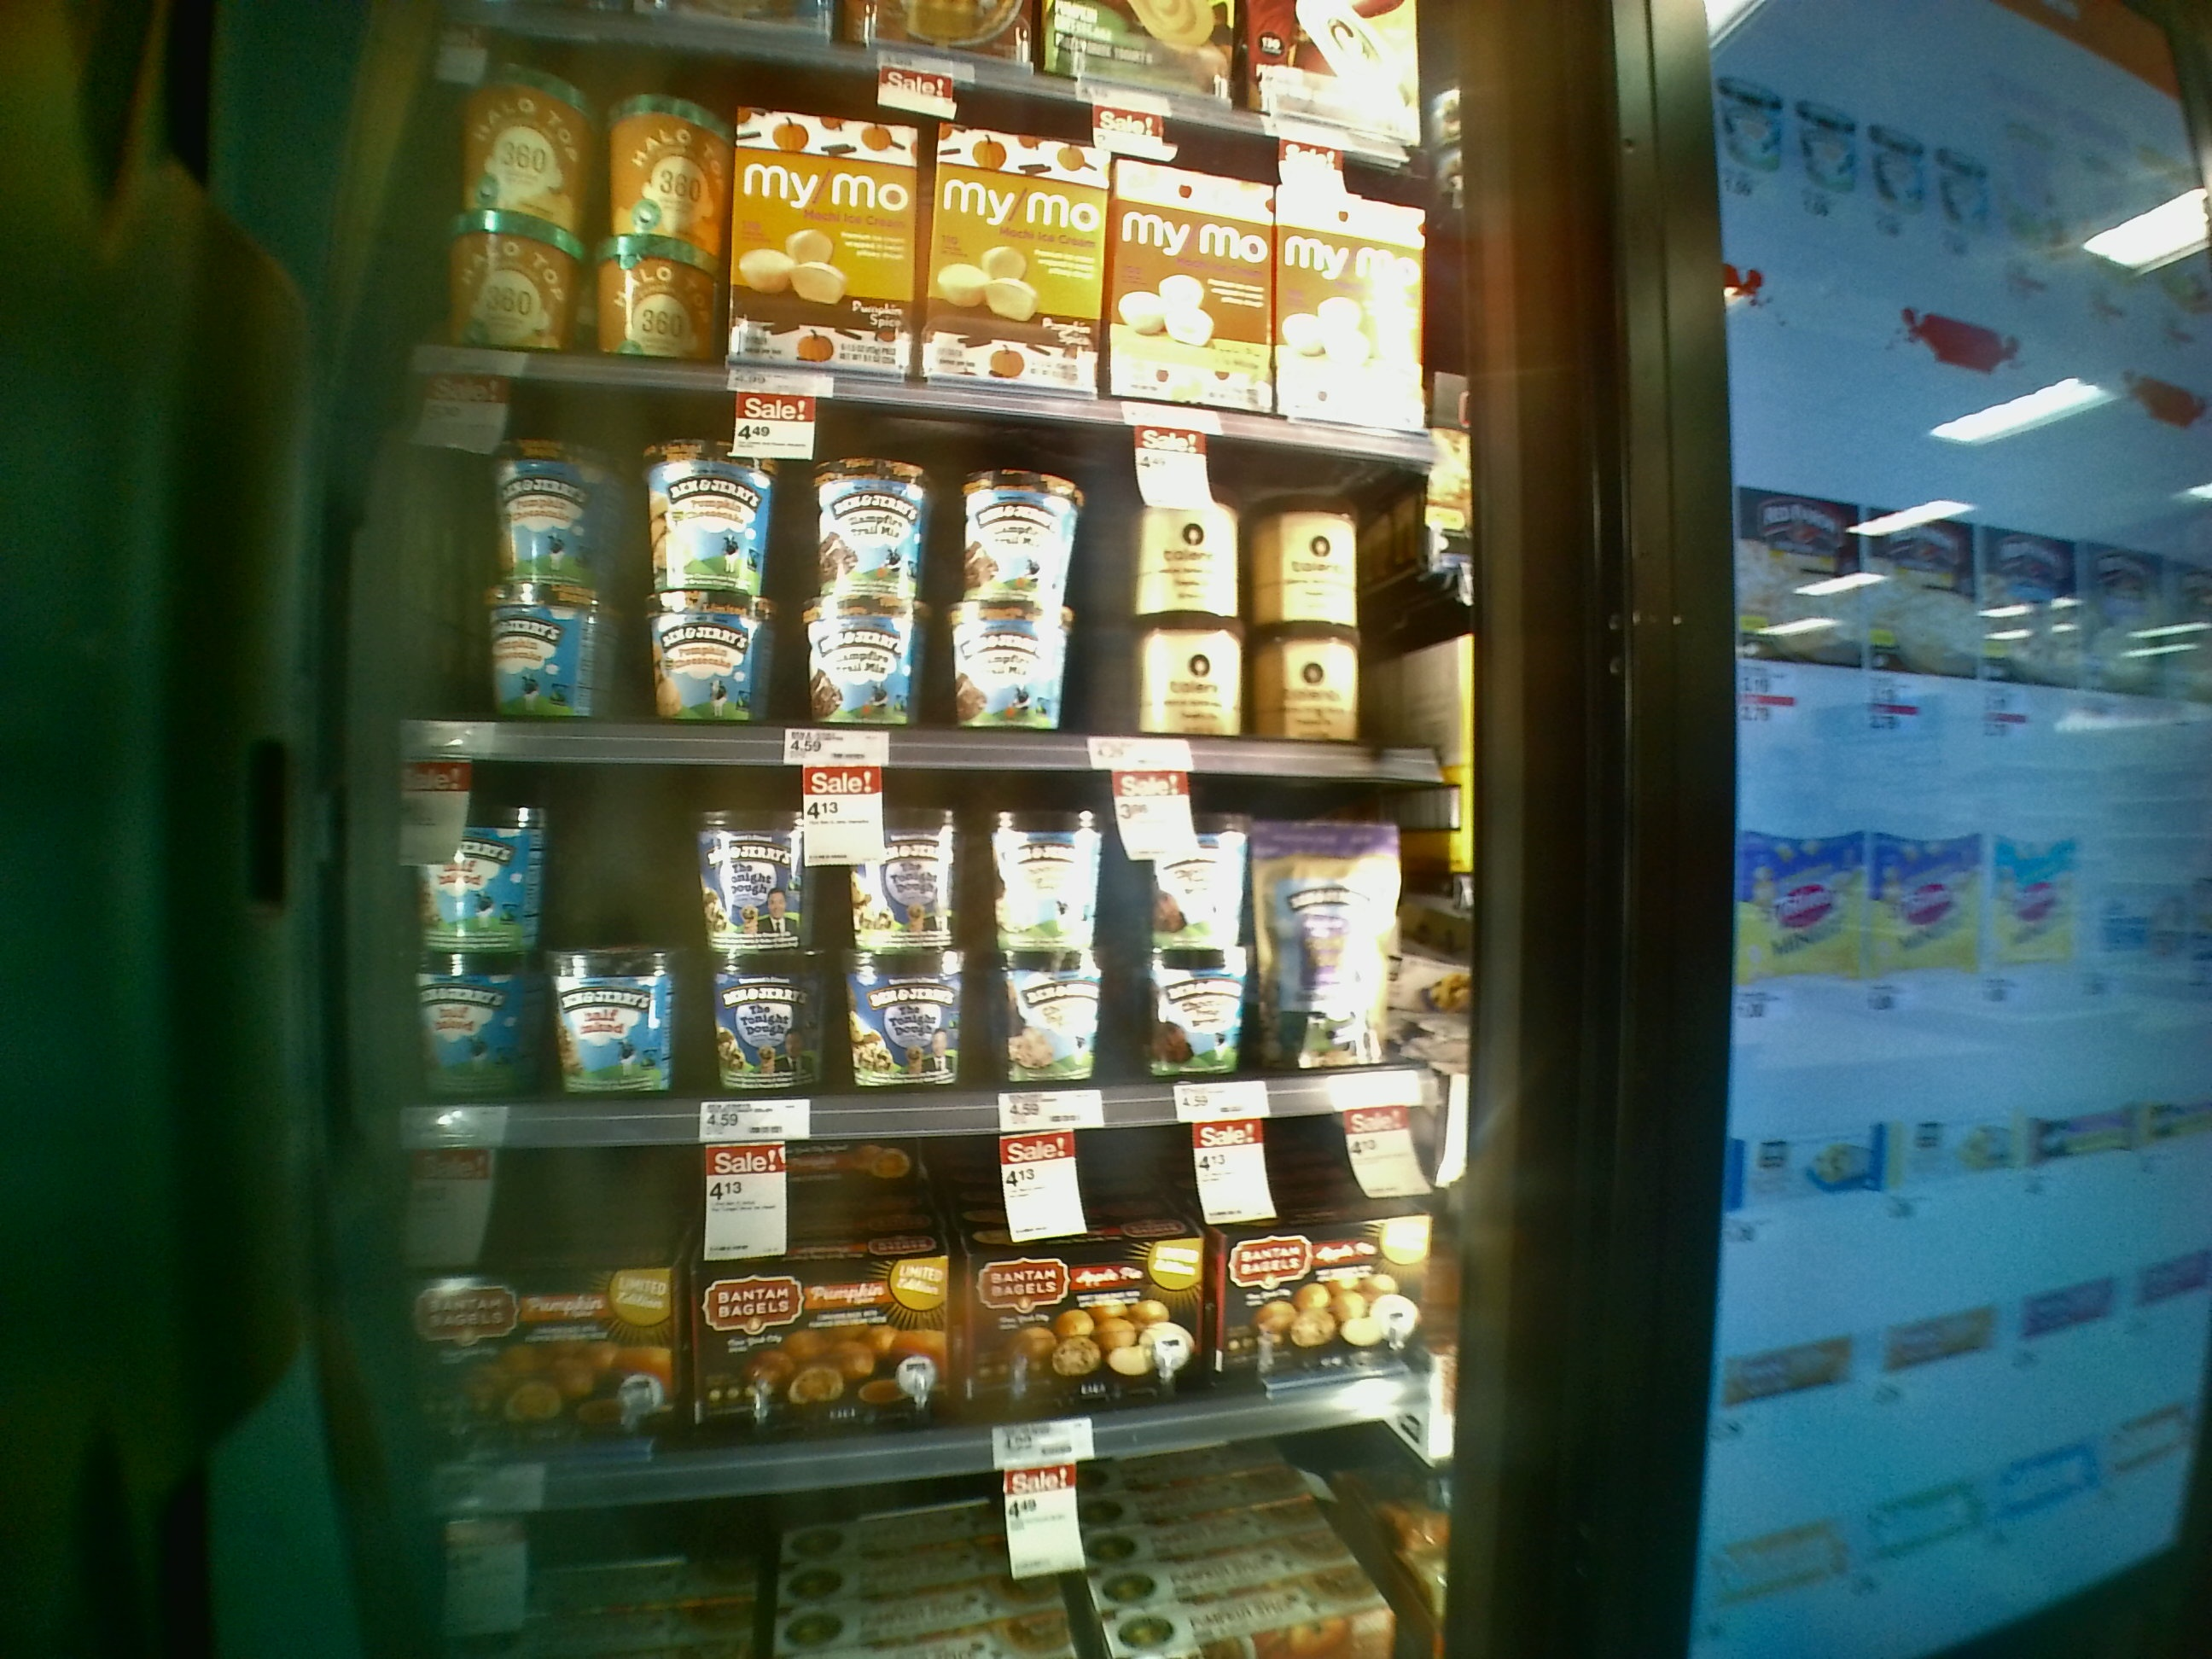shelf: (322, 716, 1479, 1124), (366, 362, 1489, 779)
